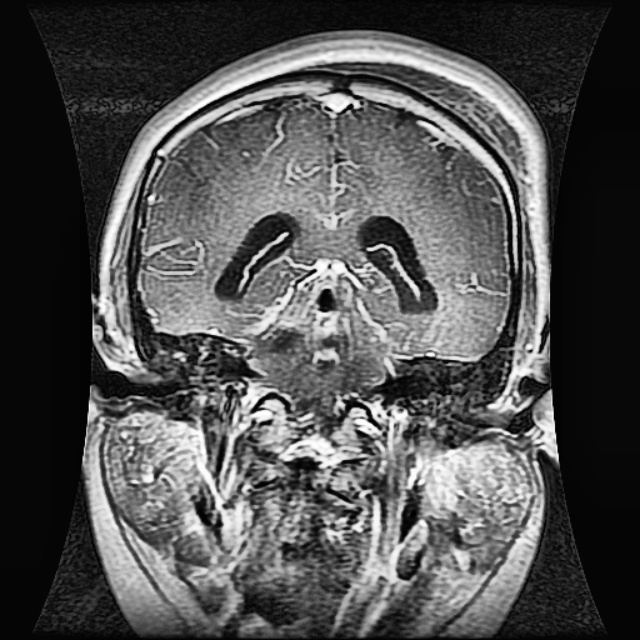Meningioma: (244, 253, 390, 365)
